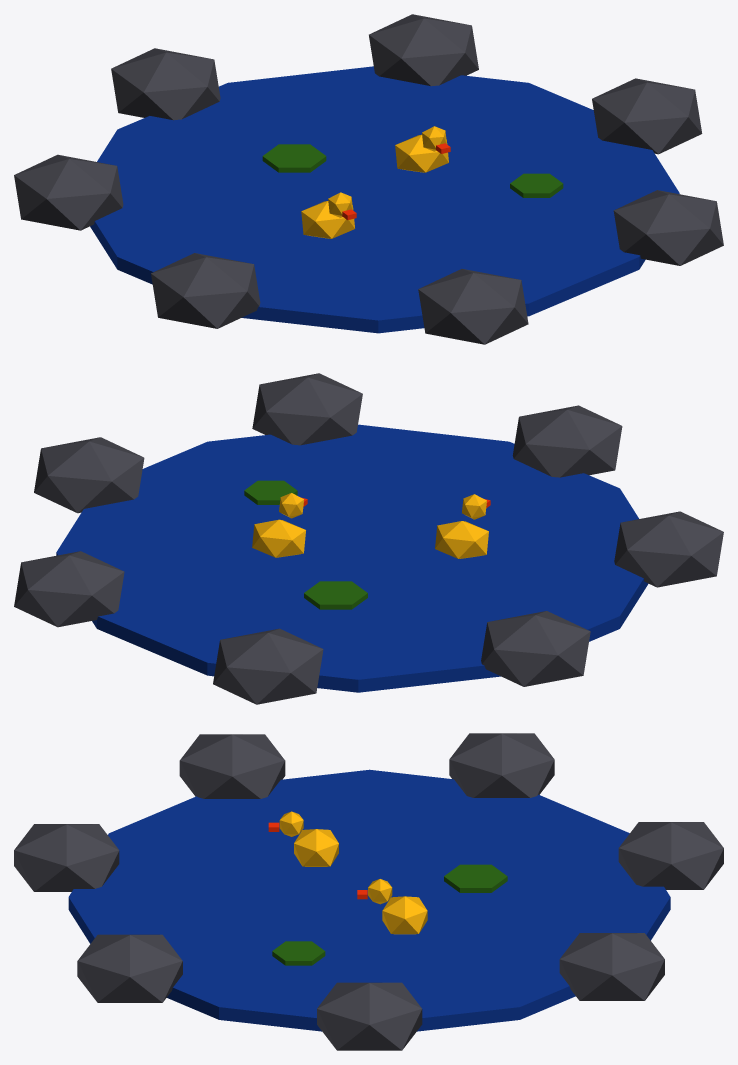
Rendered from pond_ducks.obj.
3 renders of one model, top to bottom at view 1: azimuth 30°, elevation 25°; view 2: azimuth 150°, elevation 25°; view 3: azimuth 270°, elevation 25°, orthographic.
Parts seen in each view (by area): view 1: pond_ducks; view 2: pond_ducks; view 3: pond_ducks.
Part boxes in pixels (left/top/right/bottom): pond_ducks: left=14, top=14, right=723, bottom=344; pond_ducks: left=14, top=373, right=723, bottom=704; pond_ducks: left=14, top=733, right=723, bottom=1050.
Bounding box in the file's own units: 3.96 × 0.44 × 4.01.
